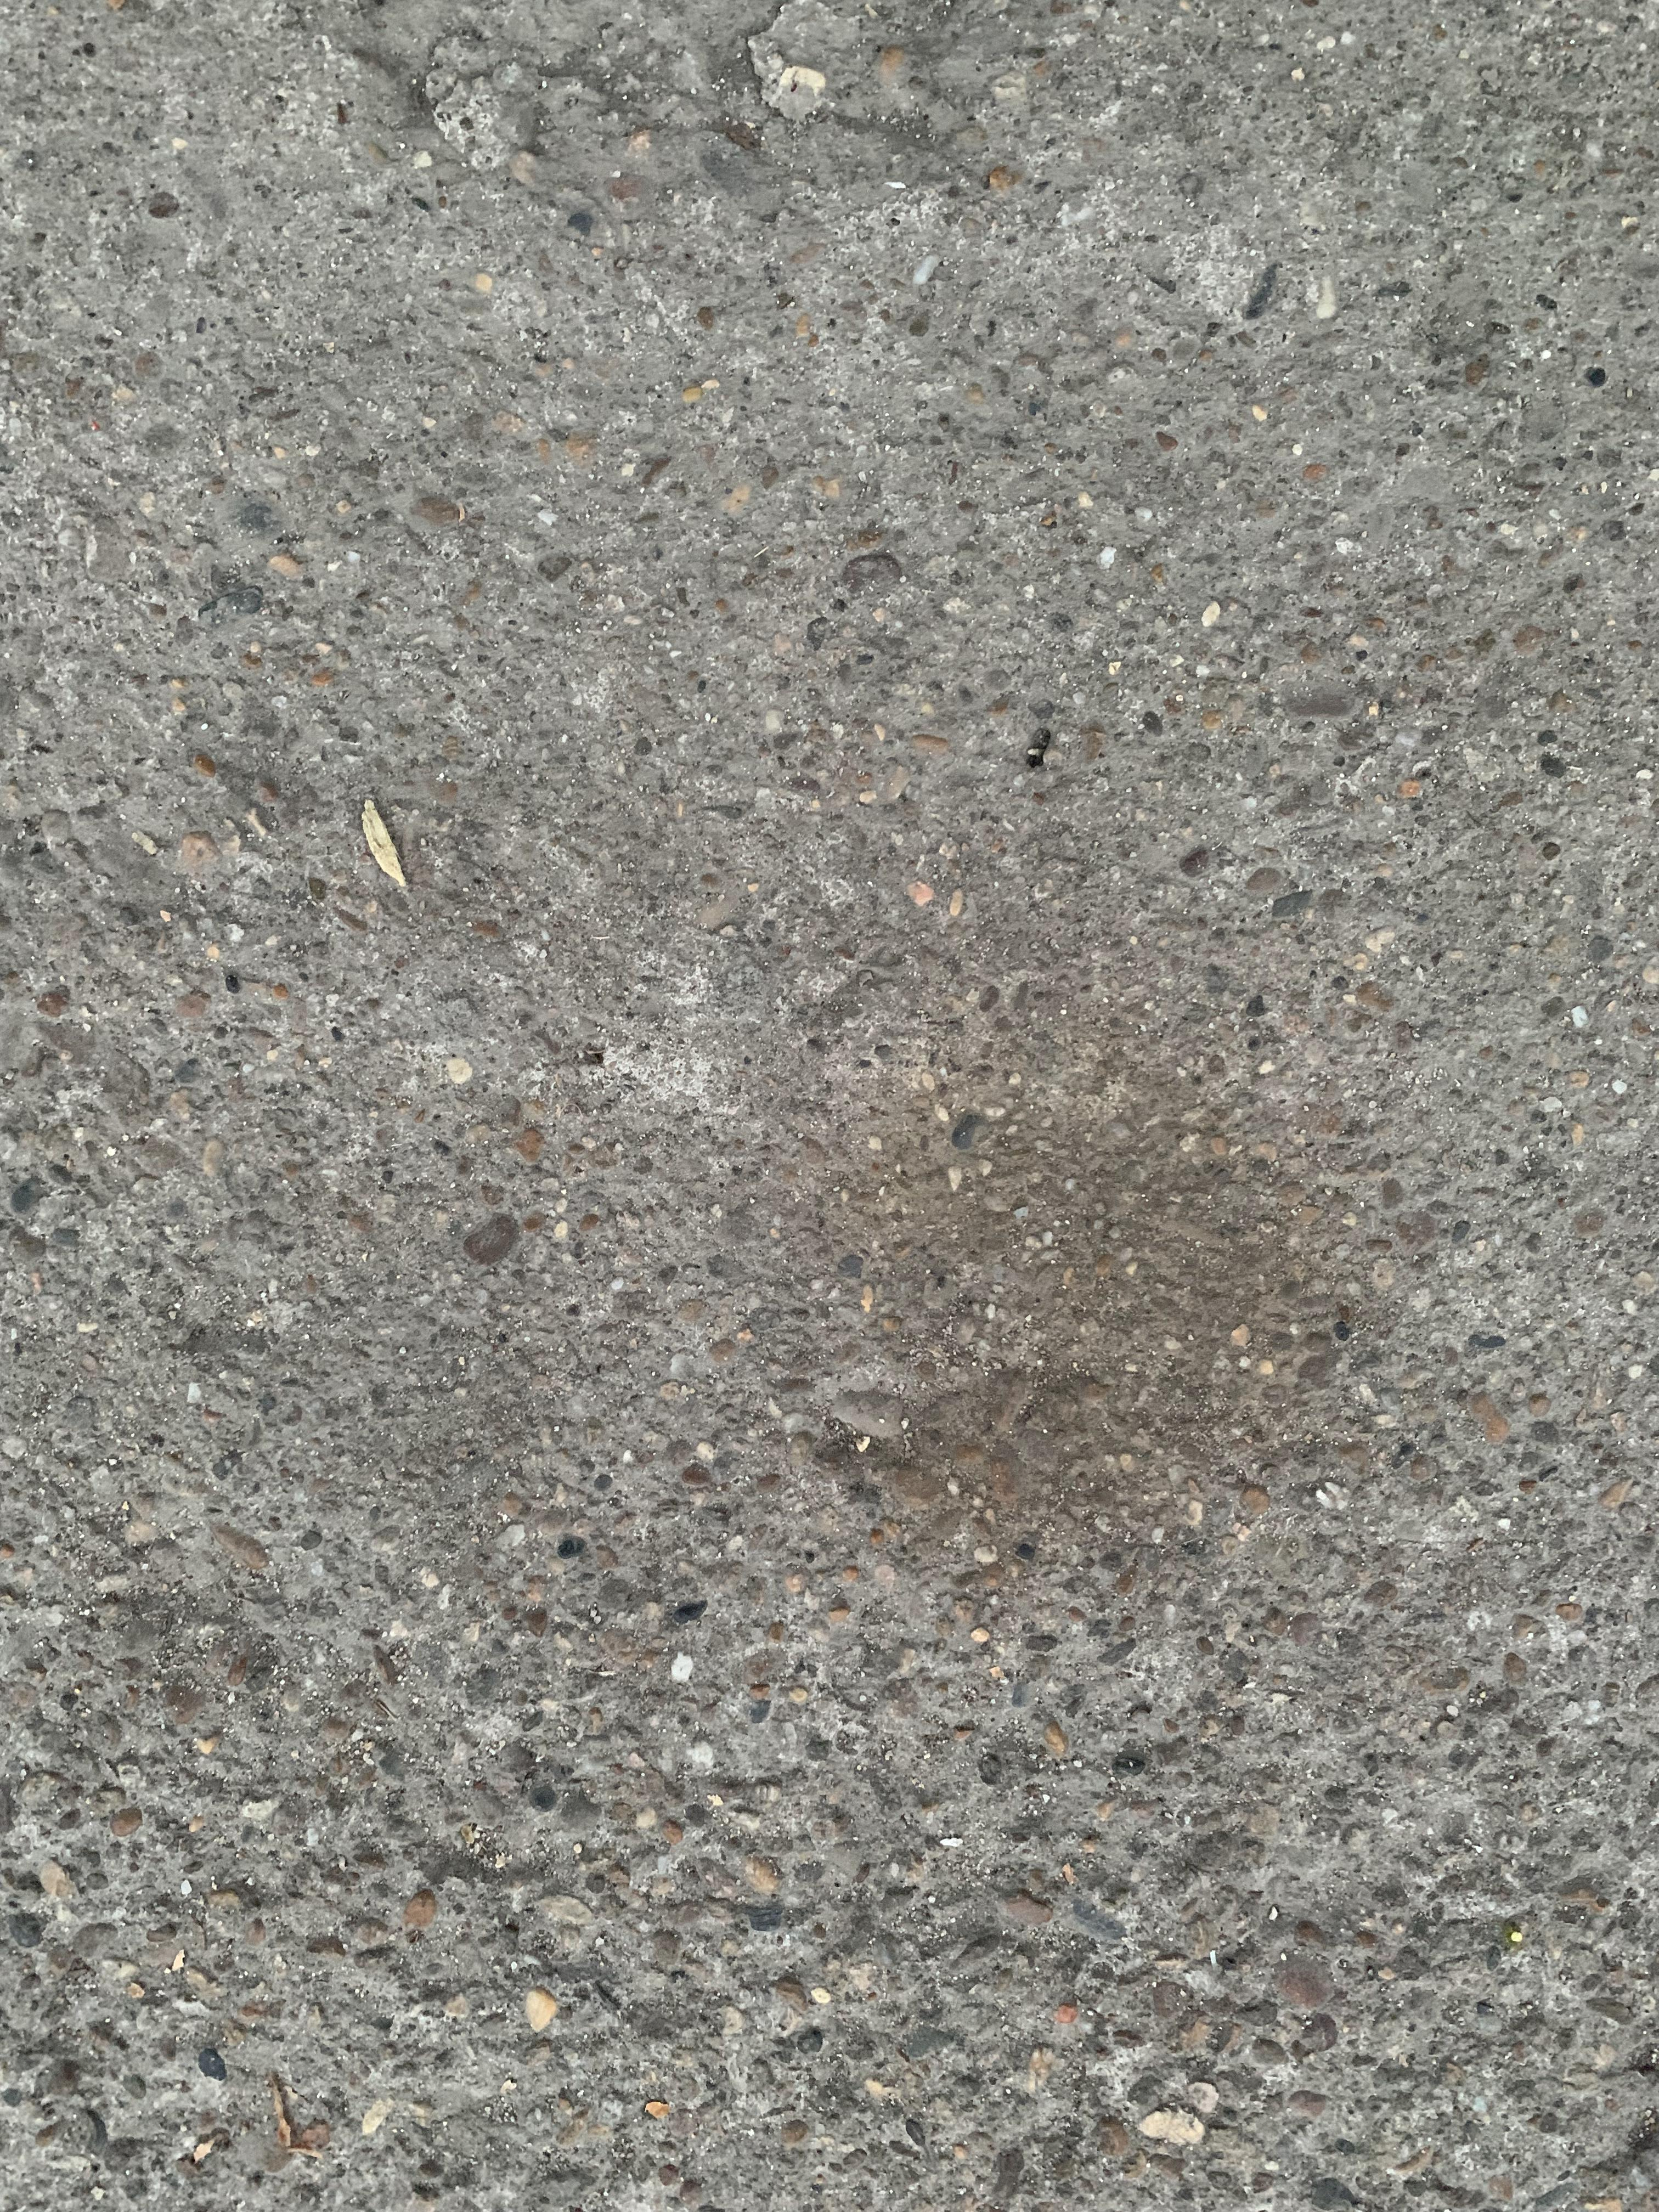ash pile: (809, 1101, 1384, 1590)
